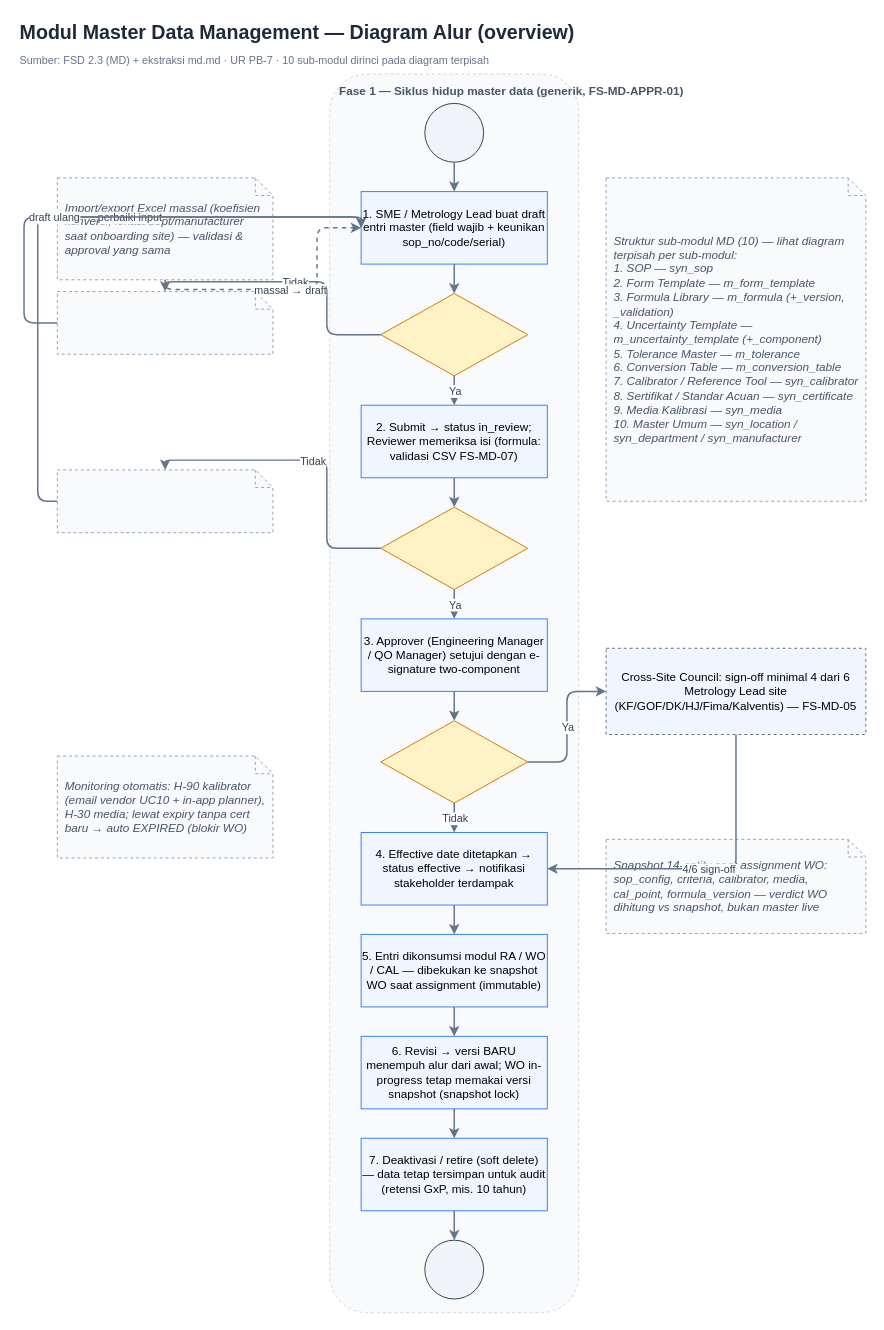
The diagram is 884 pixels wide and 1330 high, and some of its shapes have lost their labels. Here are the shapes that lost their labels. From the top down, the centre of each, then its label:
[454,132]: Mulai
[164,322]: Tetap draft — error ditampilkan, tidak dapat disubmit
[454,334]: Validasi field lolos?
[164,501]: Kembali draft untuk revisi
[454,547]: Review lolos?
[454,761]: Scope STANDARD (lintas site)?
[454,1269]: Selesai
